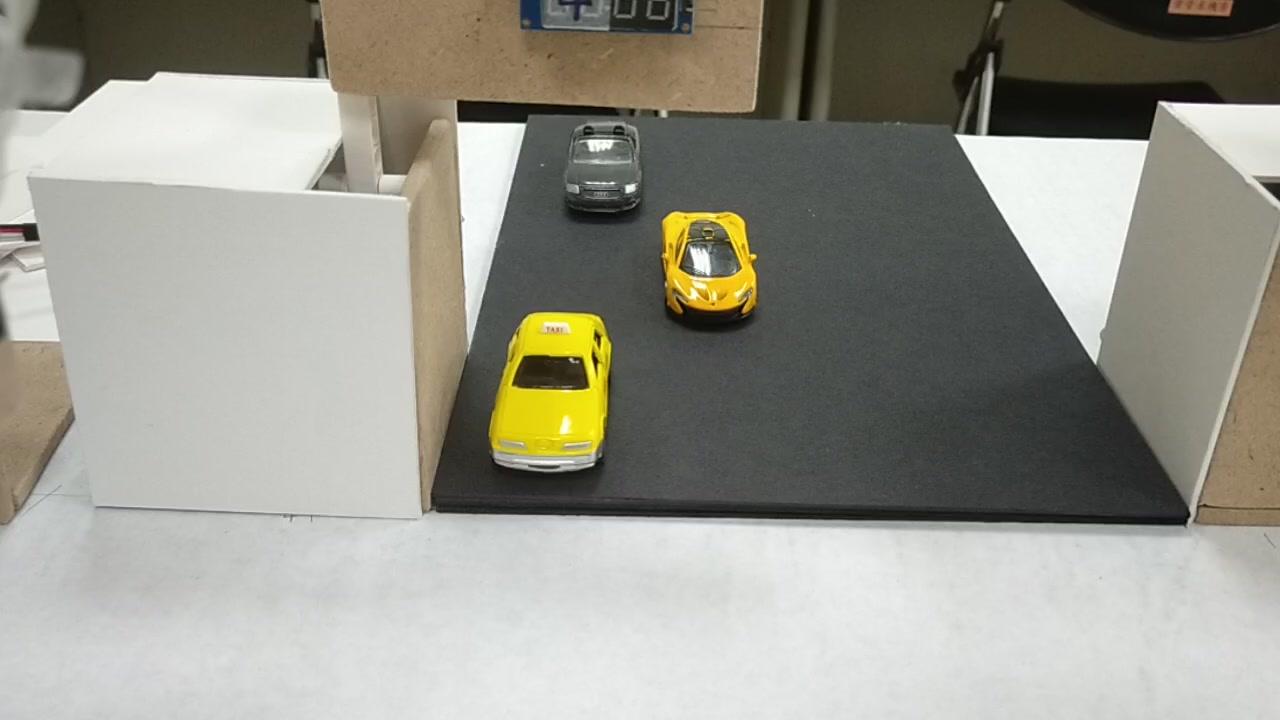car: (489, 319, 616, 465), (661, 203, 760, 320), (565, 125, 639, 220)
